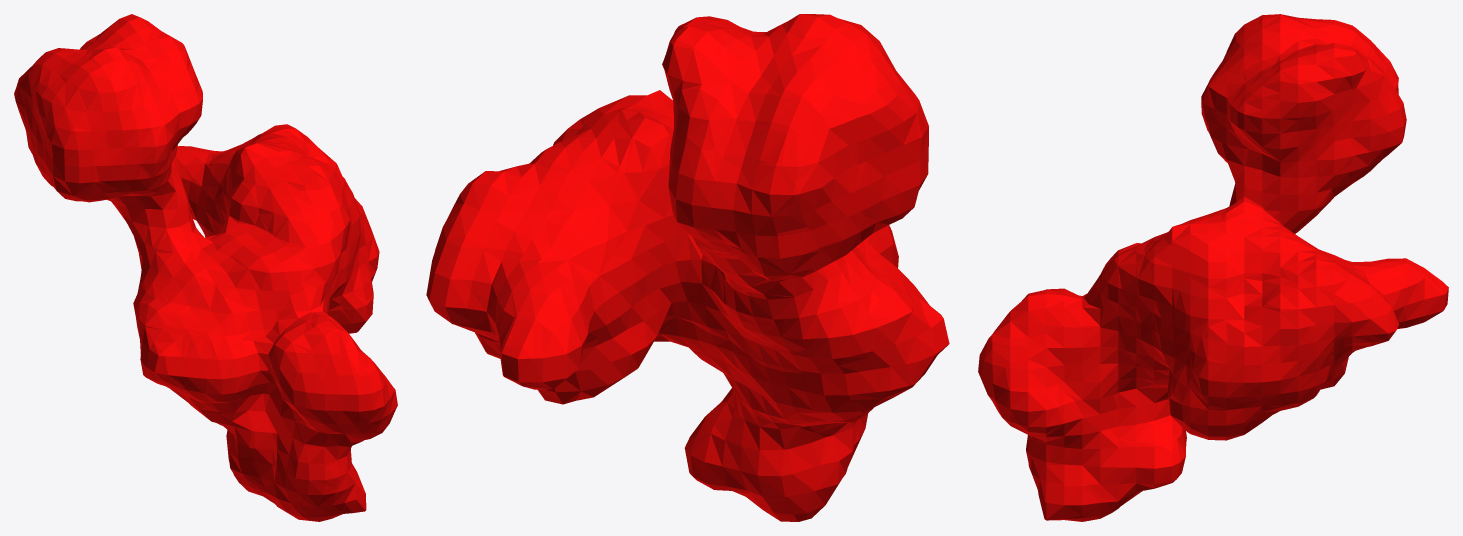
File: glnG_coarse.dae
3 views of the same model, side by side, from view 1: azimuth 30°, elevation 25°; view 2: azimuth 150°, elevation 25°; view 3: azimuth 270°, elevation 25° (orthographic). The views are drawn at different scales.
Parts seen in each view (by area): view 1: glnG; view 2: glnG; view 3: glnG.
Boxes of the visible parts, x1,y1,x2,y2 form: glnG: (14, 14, 397, 521); glnG: (426, 14, 949, 521); glnG: (978, 14, 1448, 521).
Size of the model in its own units: 70.14 by 93.57 by 90.02.
